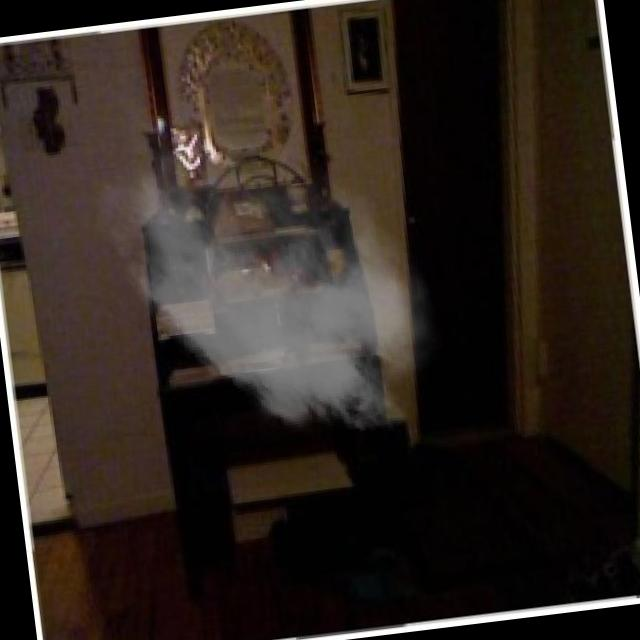Smoke: (75, 63, 463, 474)
